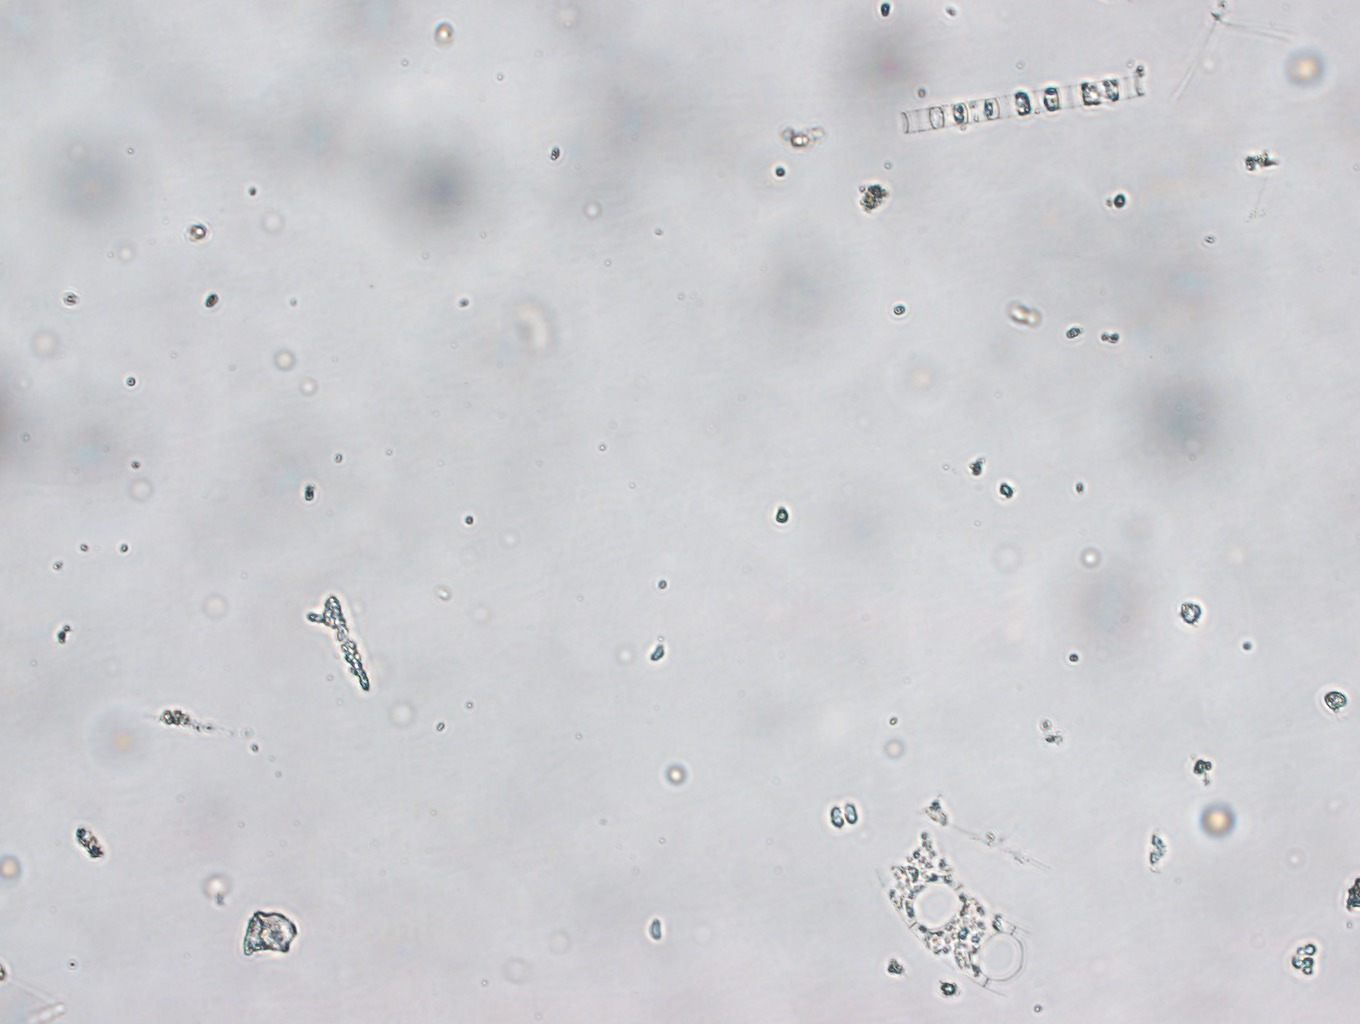eucampia: (862, 822, 1077, 1024)
skeletonema: (882, 49, 1185, 147)
